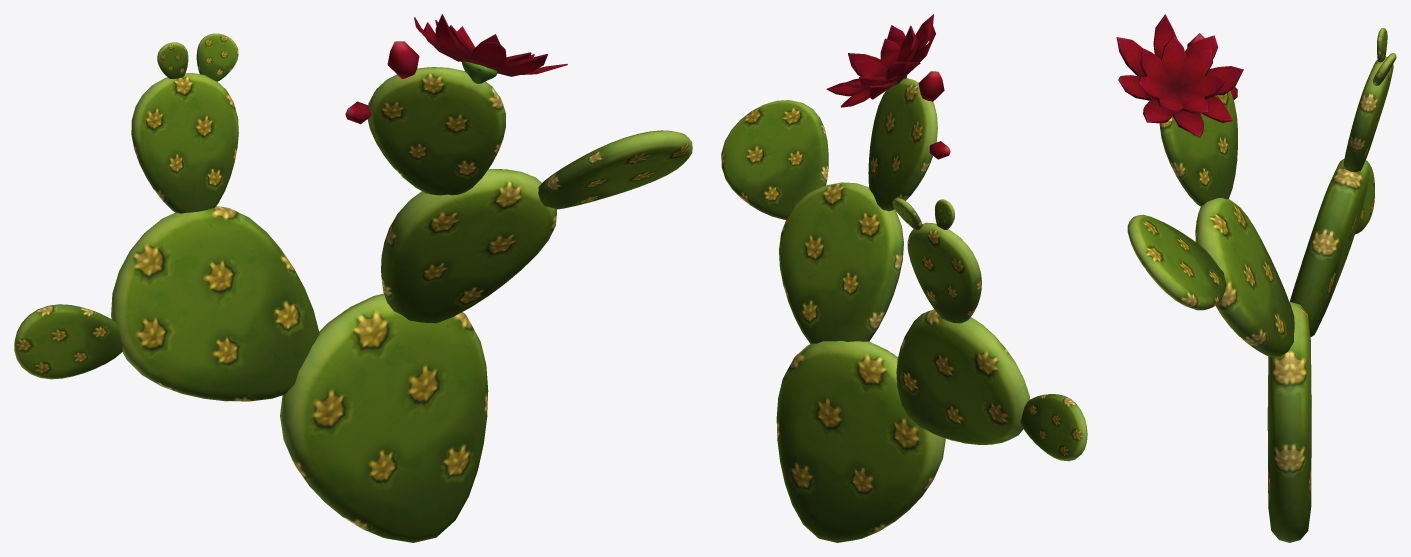
Rendered from DE_Cactus_19.fbx.
3 views of the same model, side by side, from view 1: azimuth 30°, elevation 25°; view 2: azimuth 150°, elevation 25°; view 3: azimuth 270°, elevation 25° (orthographic). The views are drawn at different scales.
Parts seen in each view (by area): view 1: DE_Cactus_19; view 2: DE_Cactus_19; view 3: DE_Cactus_19.
Part boxes in pixels (left/top/right/bottom): DE_Cactus_19: left=14, top=14, right=692, bottom=542; DE_Cactus_19: left=721, top=14, right=1087, bottom=542; DE_Cactus_19: left=1116, top=14, right=1396, bottom=542.
Bounding box in the file's own units: 3.6 × 3.63 × 1.83.
